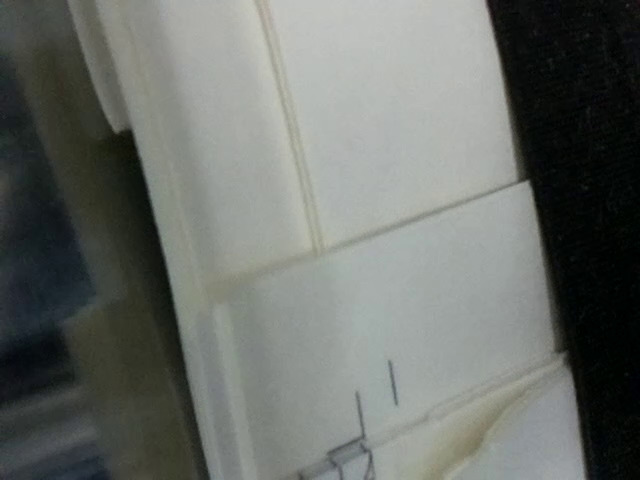misaligned: (268, 390, 379, 480)
